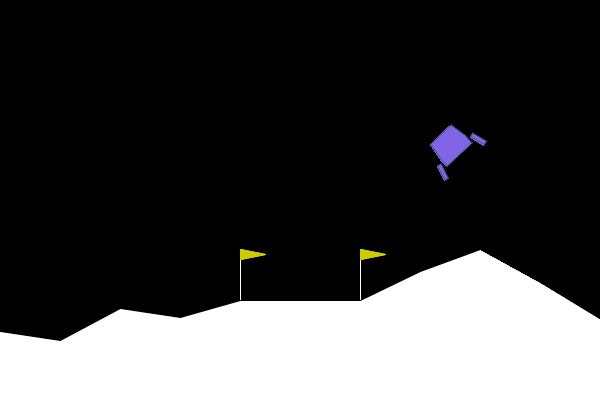lander: (417, 113, 489, 183)
